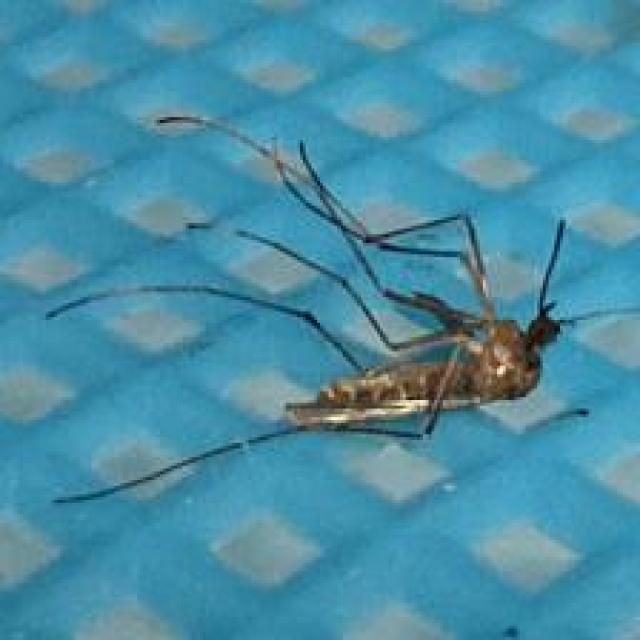Culex: (43, 110, 640, 507)
